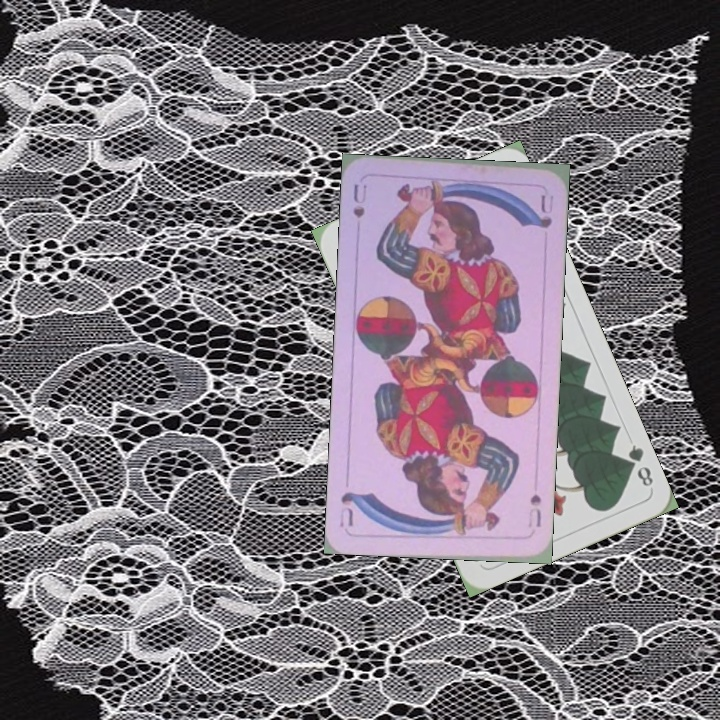G8: (619, 440, 656, 489)
SU: (349, 180, 369, 220), (526, 490, 544, 530)
